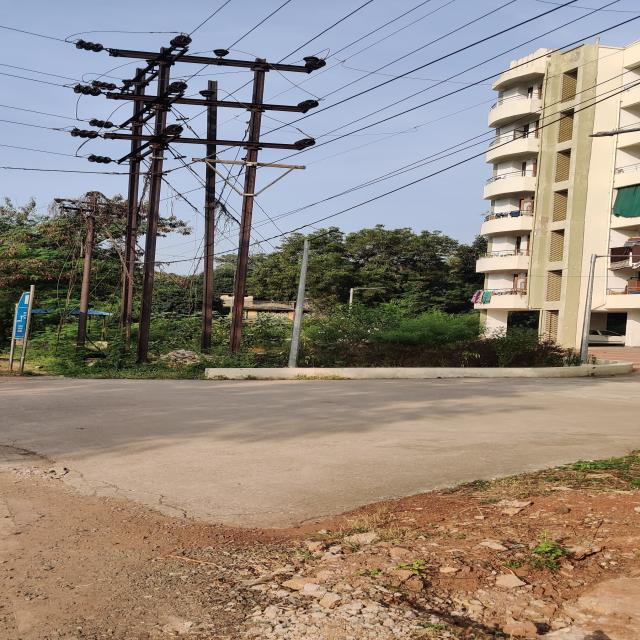Mango Tree: (252, 236, 471, 296)
